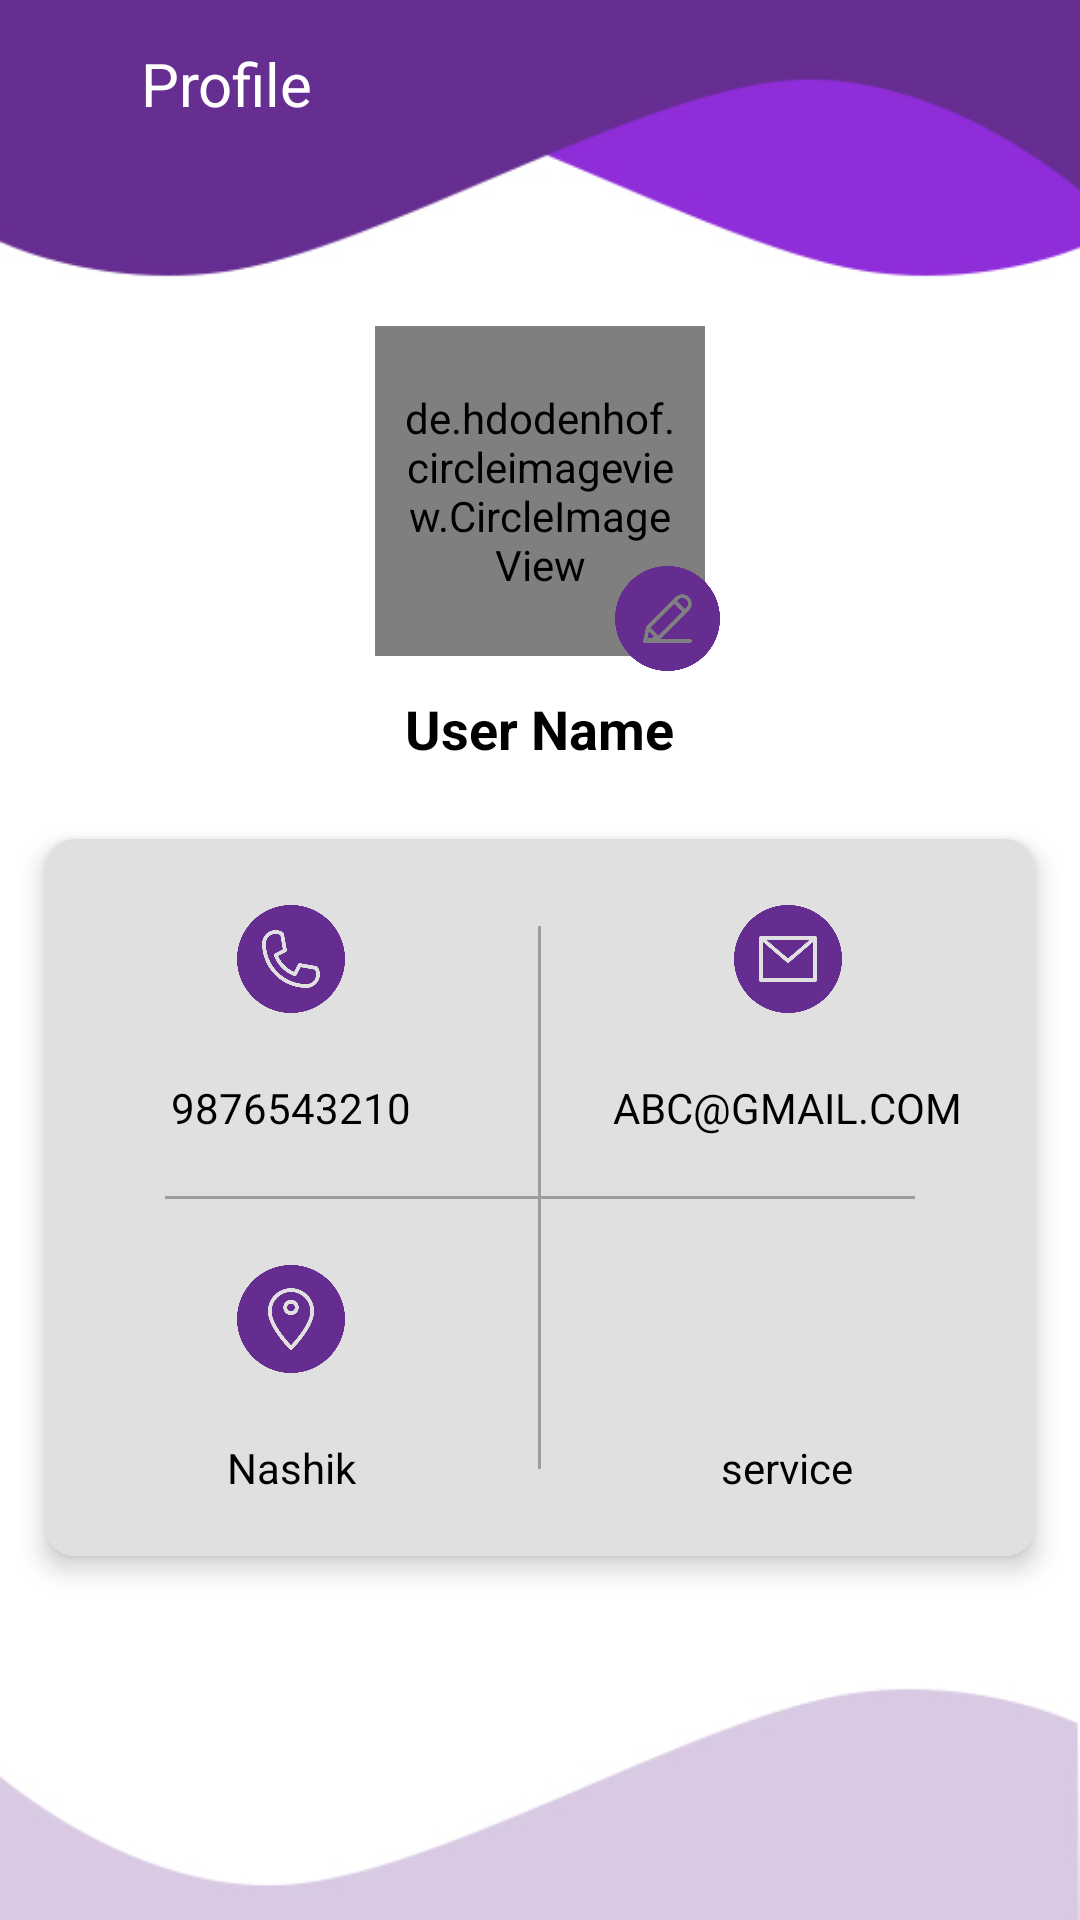

Icon click points for this 1080w x 1920h phone screenshot, format (x=x, y=y):
address: (x=291, y=1319)
call: (x=291, y=959)
edit: (x=667, y=618)
email: (x=788, y=959)
